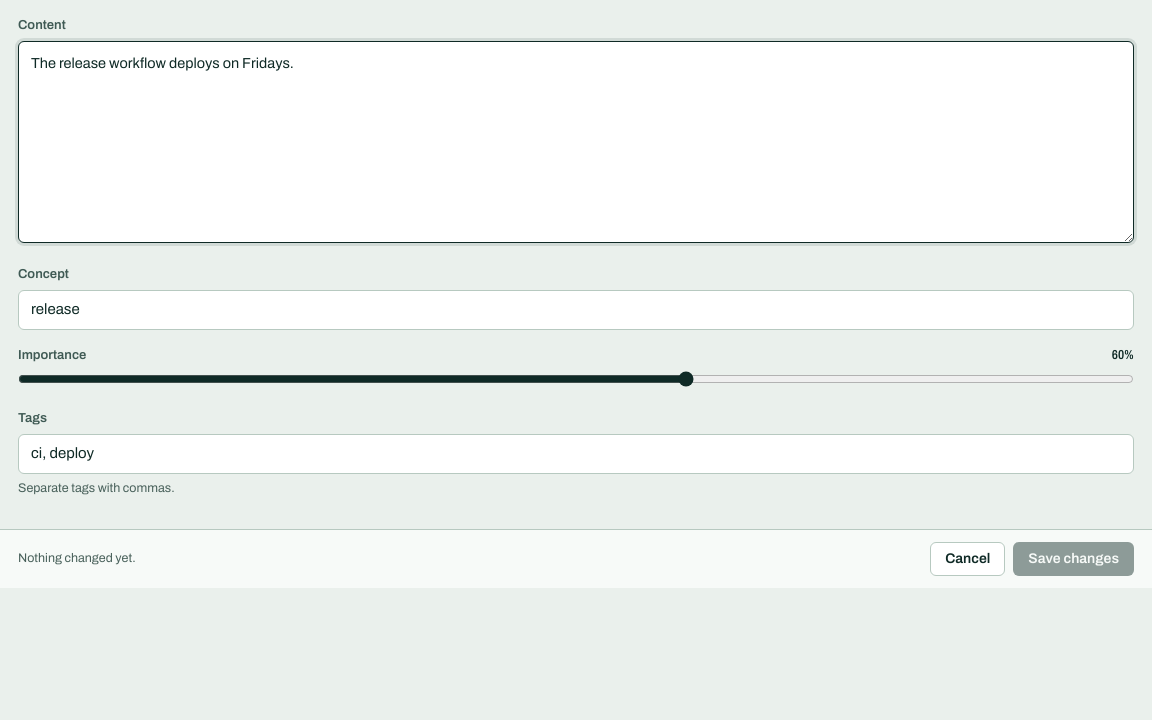
Test: MemoryEdit › says a content change re-indexes, and an importance change does not
Set the slider labelled "Importance 60%" to "70" at (796, 379), box [18, 371, 1134, 387]
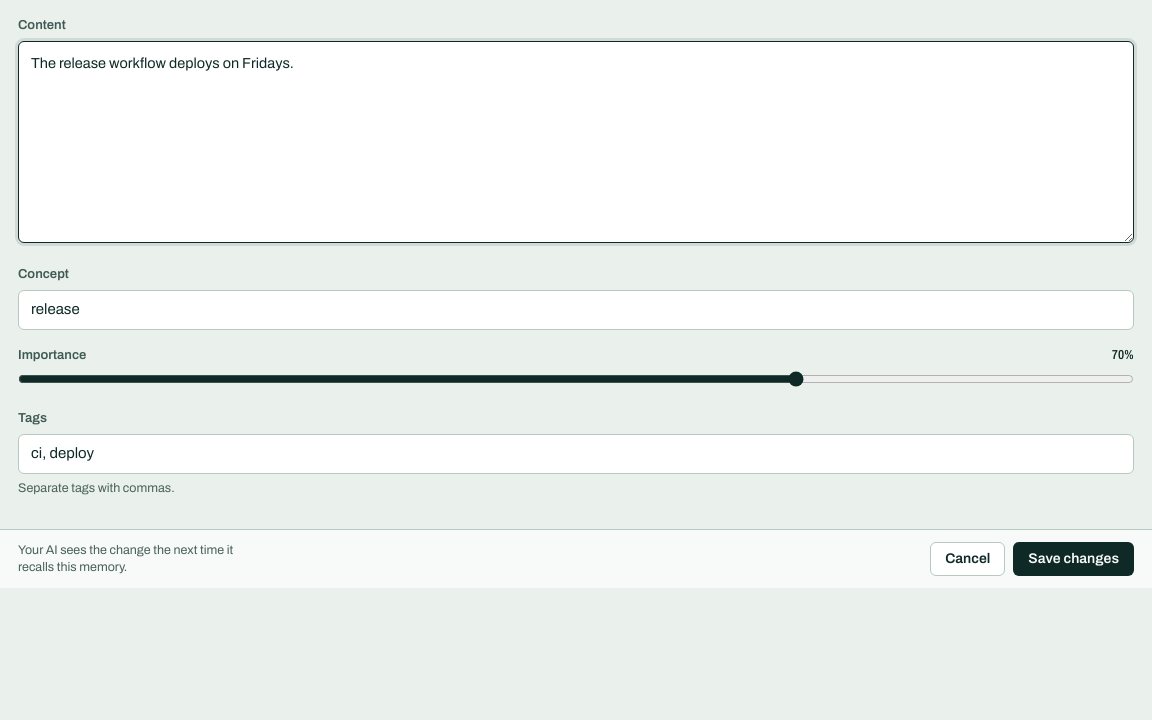
Now the text "next time it recalls" is shown, box [18, 543, 233, 574]
Replace the text in the text box labelled "Content" with "New words." at (576, 142), box [18, 41, 1134, 243]
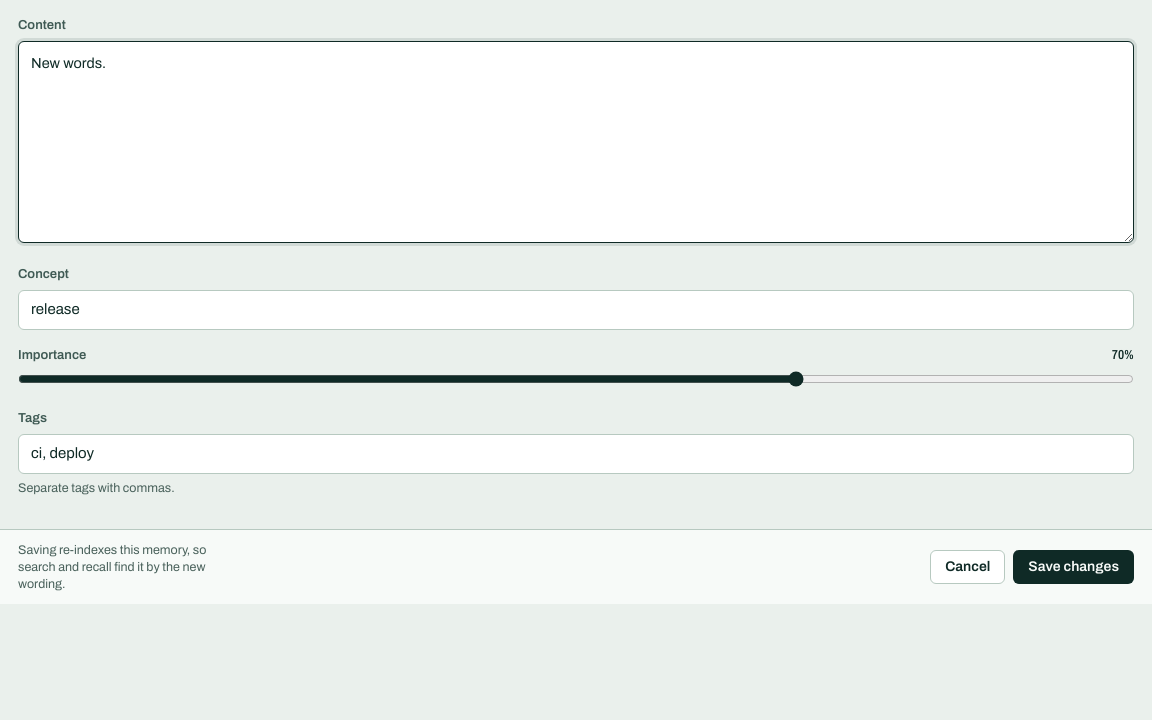
Now the text "re-indexes this memory" is shown, box [18, 543, 206, 591]
